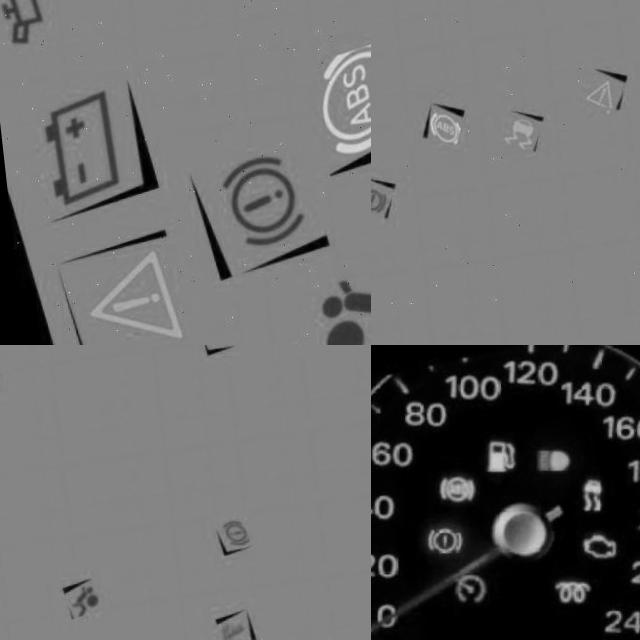Low fuel level: (470, 439, 515, 488)
